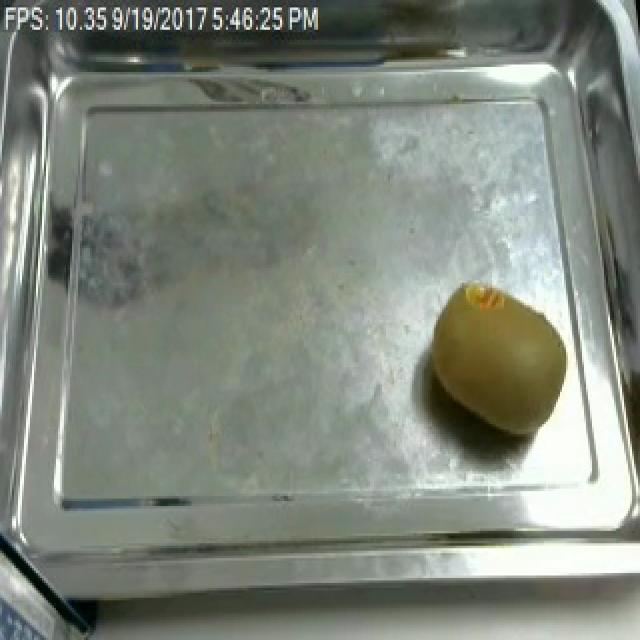Fruit: (420, 270, 578, 447)
